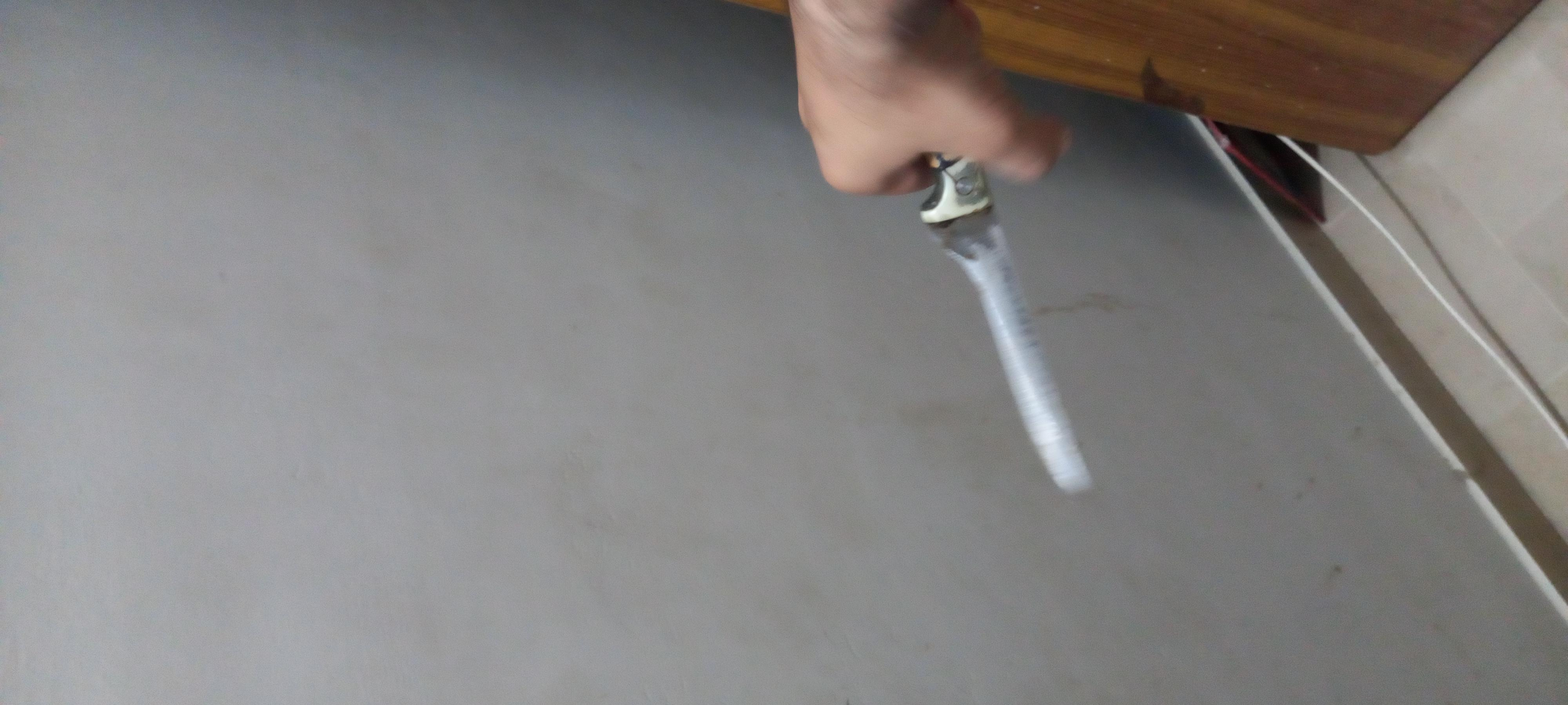knives: (443, 399, 1330, 495)
